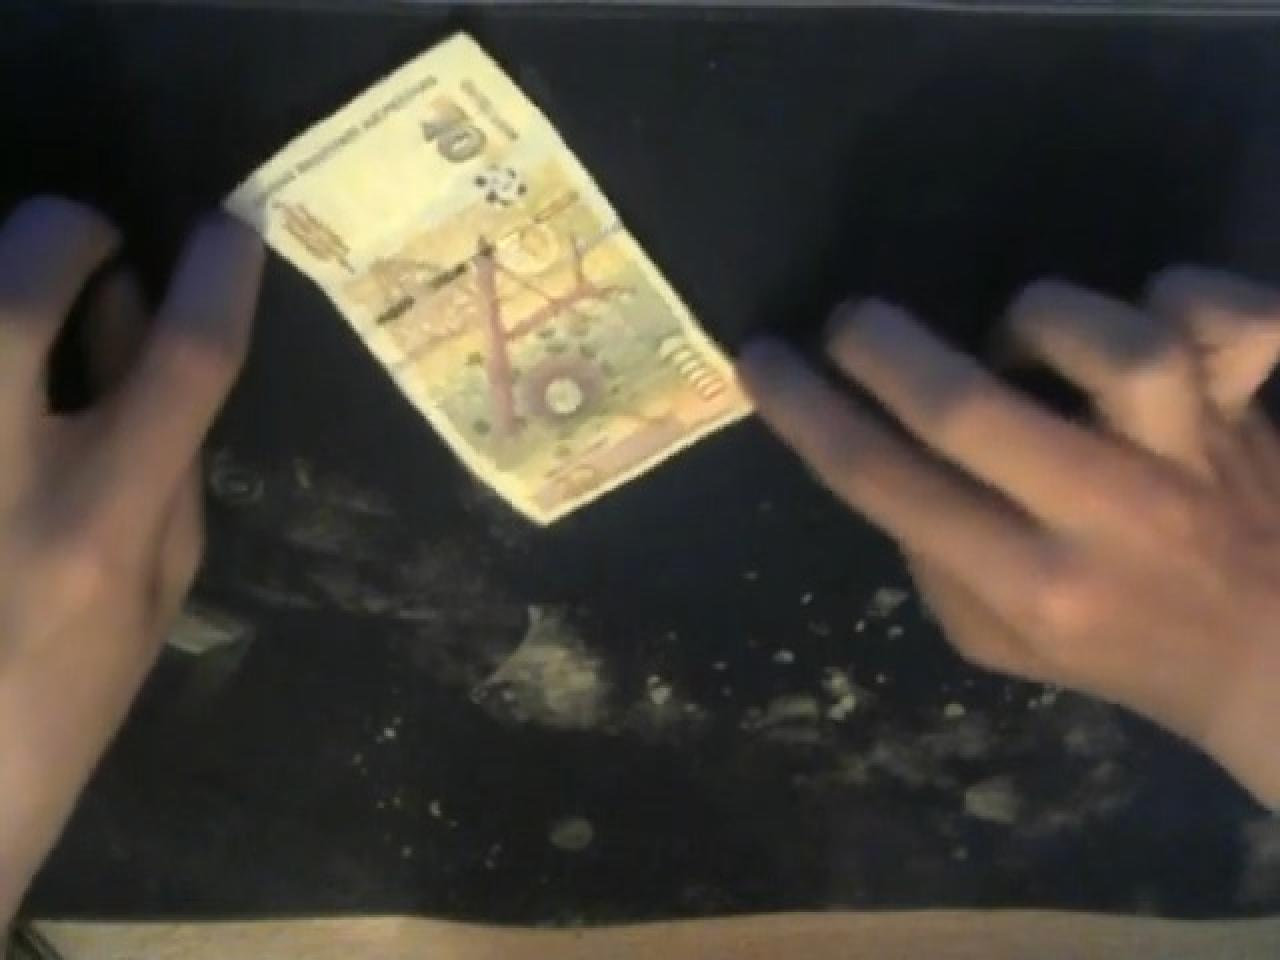10leva: (220, 29, 752, 522)
